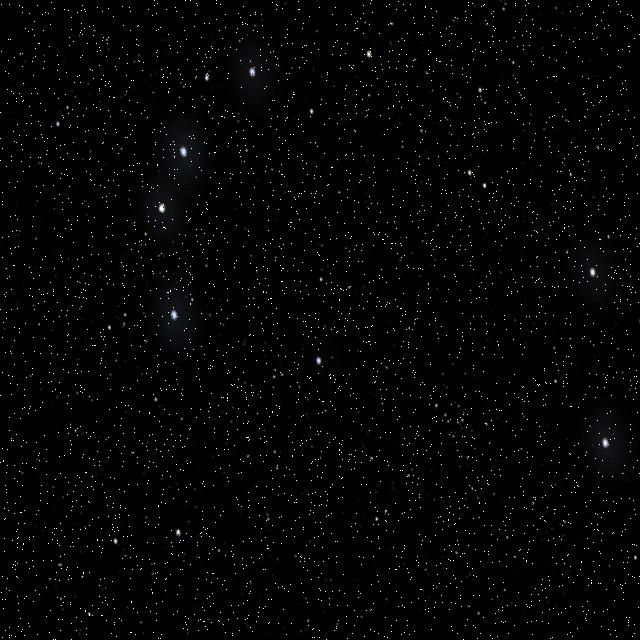Canes Venatici: (300, 266, 339, 368)
